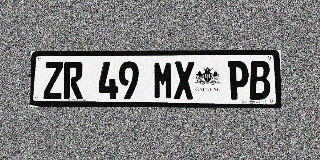4: (98, 61, 118, 99)
9: (119, 61, 139, 99)
B: (249, 61, 270, 100)
M: (153, 61, 173, 99)
P: (228, 61, 249, 100)
R: (63, 62, 83, 99)
X: (174, 61, 194, 99)
Z: (43, 62, 63, 99)
